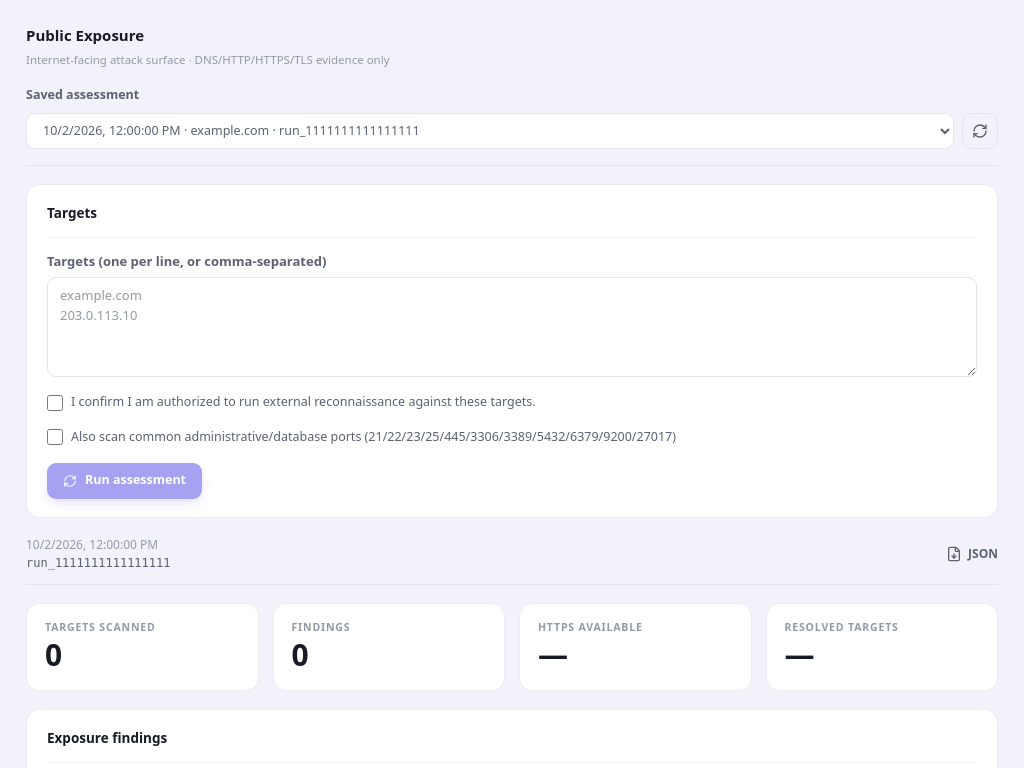
it: public exposure saved assessments › selects a newly completed scan and records explicit authorization
The width and height of the screenshot is (1024, 768).
Type "example.com" into the text box labelled "Targets (one per line, or comma-separated)" at (512, 327), box [47,277,977,377]
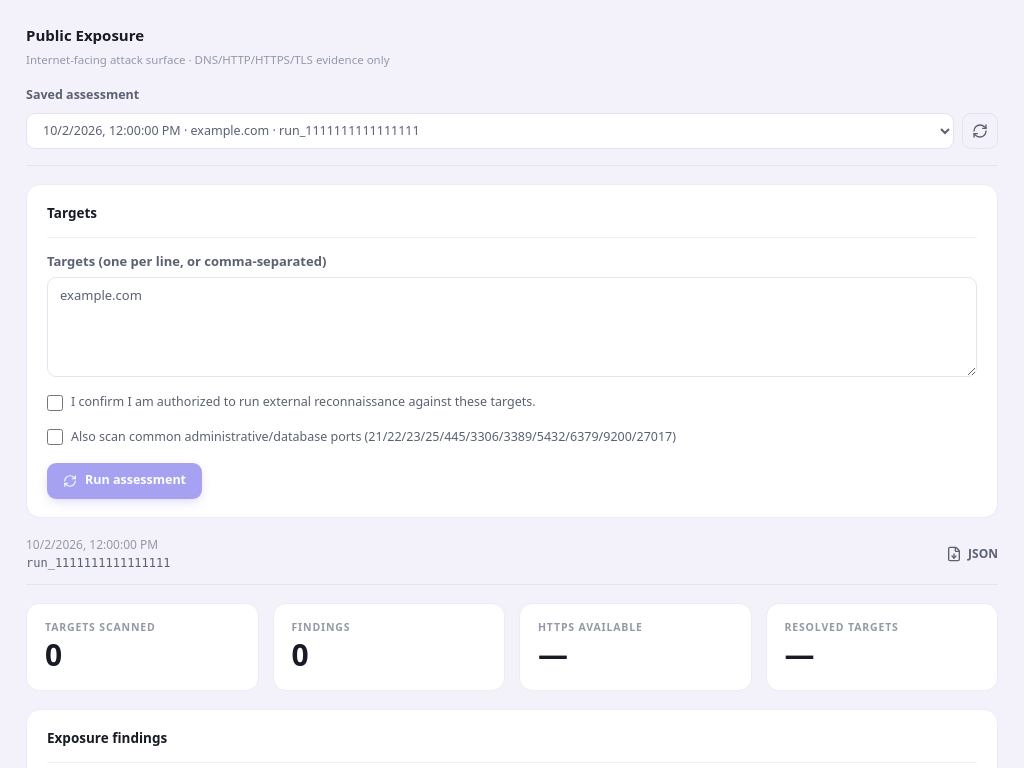
Click the checkbox labelled "I confirm I am authorized" at (55, 403), box [47,395,63,411]
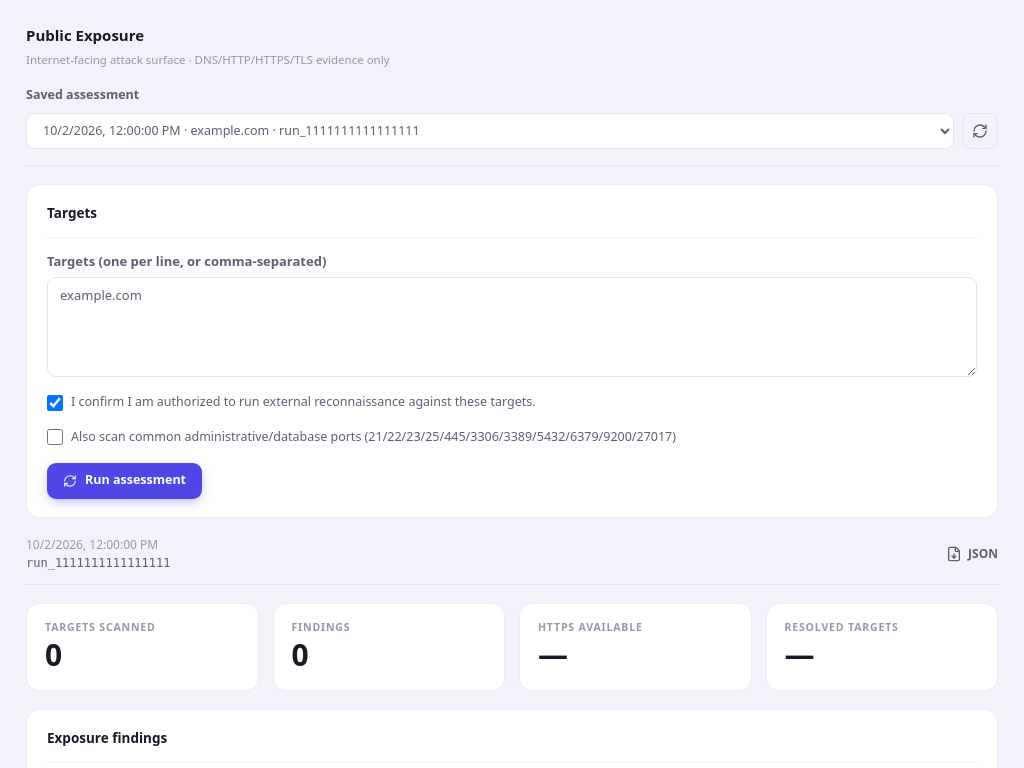
Click the button "Run assessment" at (124, 481), box [47,463,202,499]
(page scrolled)
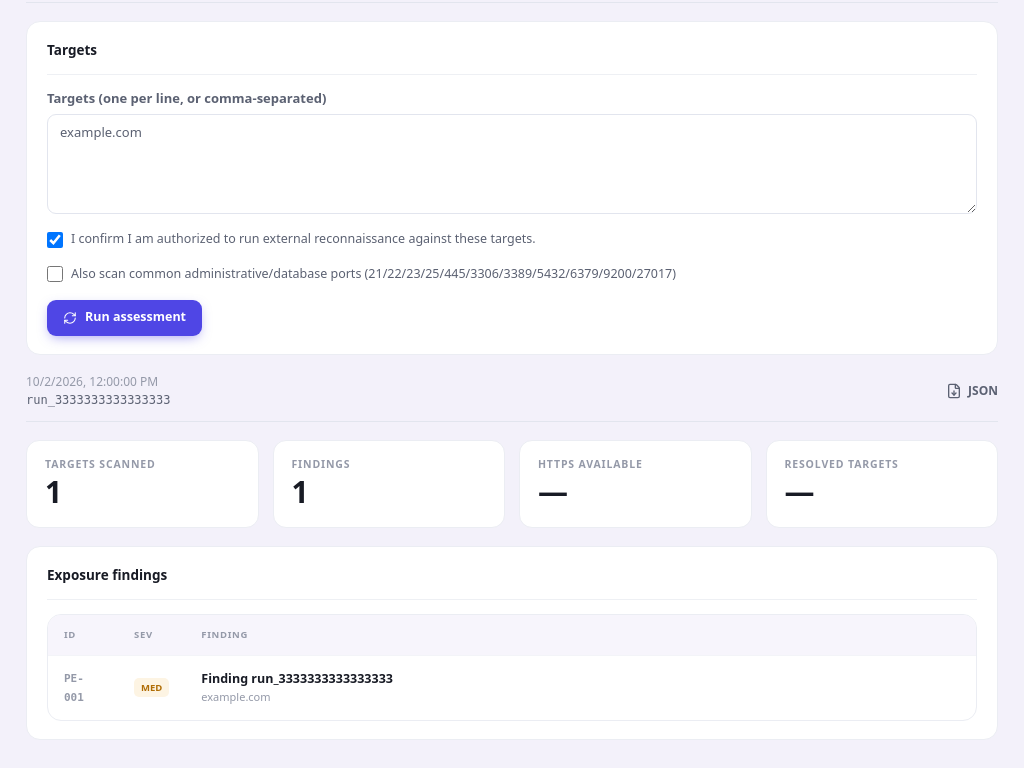
Now the text "Finding run_3333333333333333" is shown, box [201,670,393,687]
